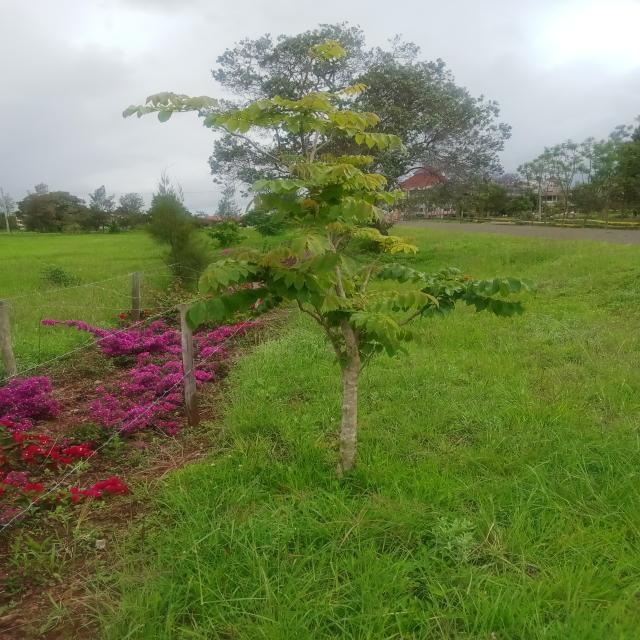Polyscias Kikuyensis: (144, 50, 531, 478)
